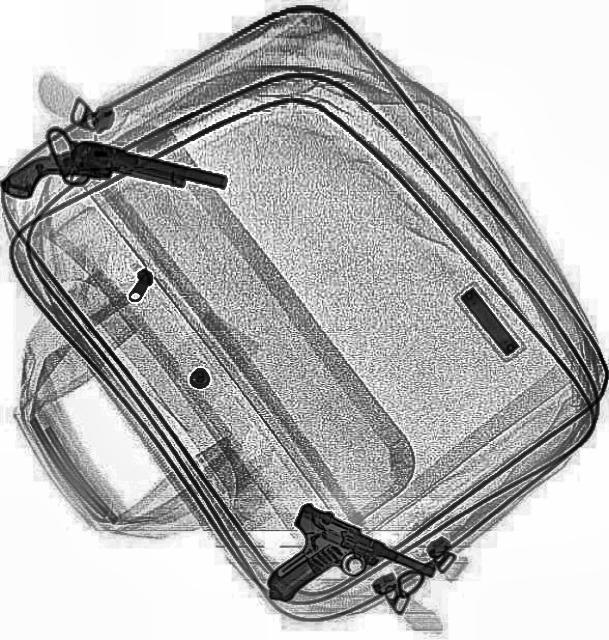Gun: (0, 122, 228, 245), (260, 502, 420, 638)
